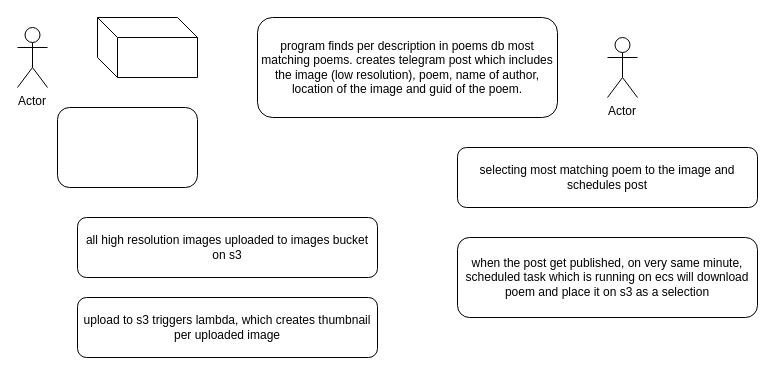
Some shapes in this 775 by 375 pixel diagram are drawn without their labels. Here are the shapes that lost their labels. From the top down, the centre of each, then its label:
At point (147, 47): "images high res".
At point (127, 147): "per image adds: location name description".
